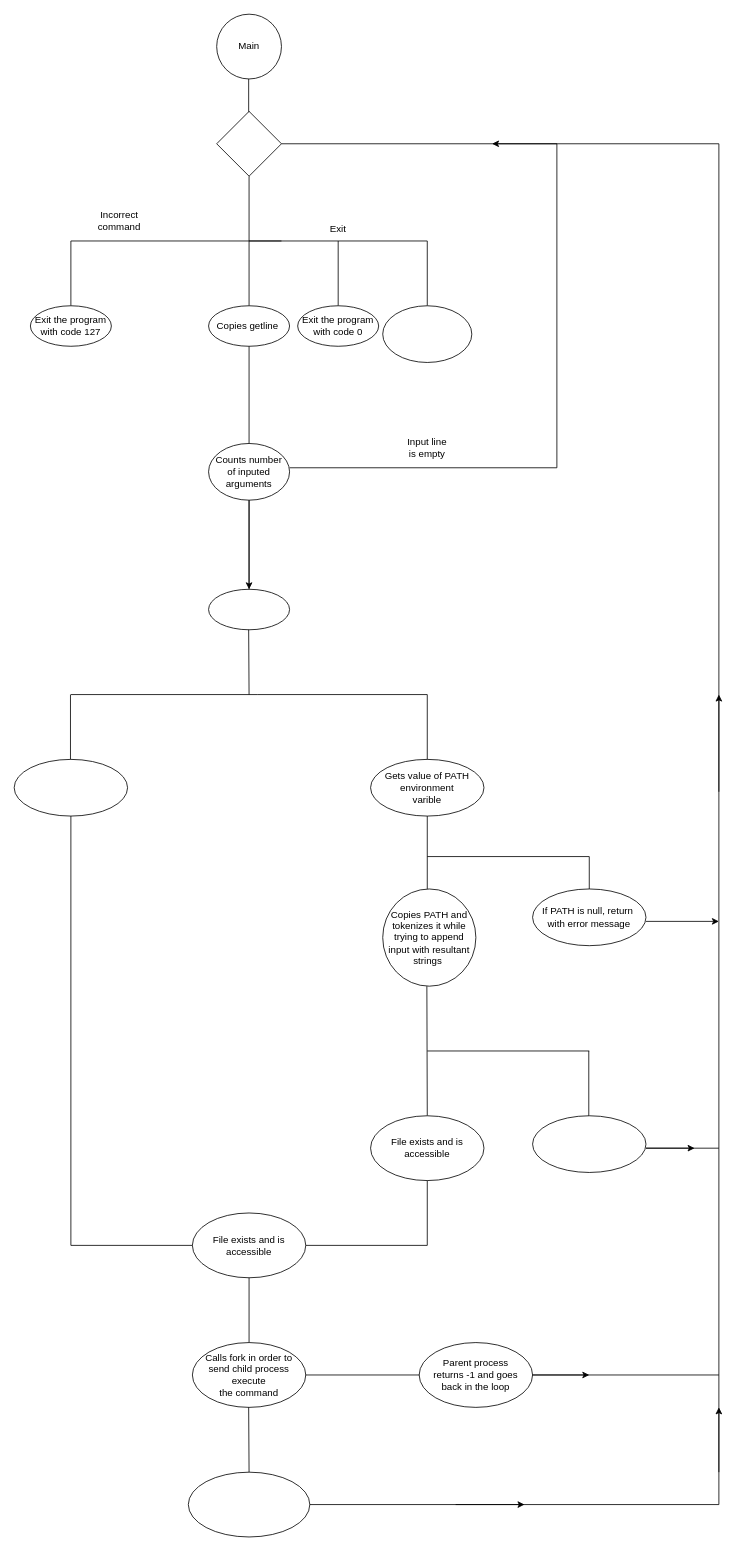
Image size: 740x1551. Some labels were removed from this diagram. Each missing label, with the centre of its shape:
Child process executes command and sends back a flag with it's output: the point at 249,1504
Command is not found, prints an error message and returns null: the point at 589,1143
File starts with '/' or '.' and is accessible via syscall: the point at 70,787
If execution previously failed, exit with code 2: the point at 427,333
Tokenizes input: the point at 249,609
user input Getline: the point at 248,143
